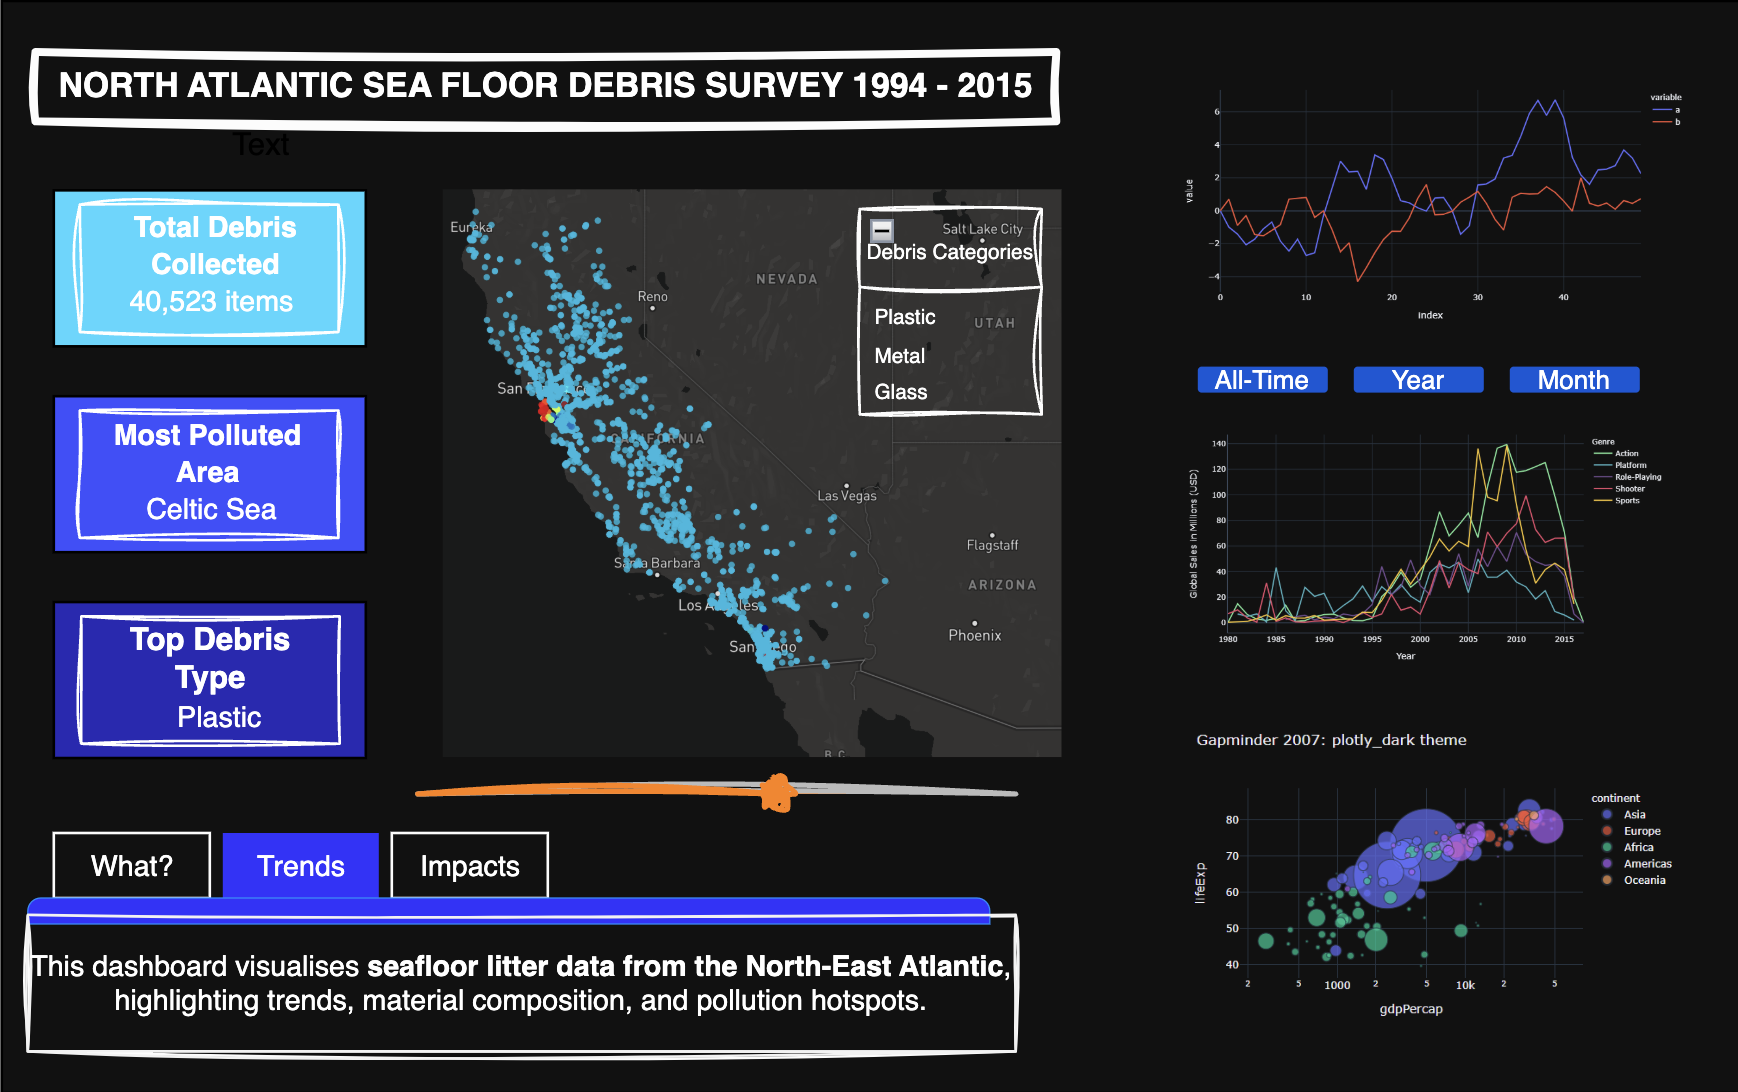

Layout of this report page (visuals, bound fields, positions):
{"tool":"tableau","page":{"name":"Dashboard 11 (5)","canvas":[1366,768],"ordinal":0},"visuals":[{"type":"image","param":"Image/sea.001.jpeg","box":[3,7,1359,763]},{"type":"title","box":[8,8,1350,35]},{"type":"text","box":[1186,8,139,106]},{"type":"text","box":[812,14,140,93]},{"type":"text","box":[999,15,140,93]},{"type":"text","box":[586,25,160,30]},{"type":"text","box":[56,42,448,64]},{"type":"image","param":"Image/Cefas-logo.png","box":[576,55,167,66]},{"type":"text","box":[813,56,140,96]},{"type":"text","box":[1183,56,140,96]},{"type":"text","box":[999,57,140,96]},{"type":"text","box":[536,151,403,34]},{"type":"worksheet","title":"map","mark":"Circle","rows":["Latitude"],"cols":["Longitude"],"box":[1057,157,257,212]},{"type":"text","box":[45,166,325,330]},{"type":"text","box":[47,167,205,14]},{"type":"worksheet","title":"over time","mark":"Automatic","rows":["Calculation_221802339387650054","area"],"cols":["totallitter"],"box":[417,183,577,283]},{"type":"legend","title":"map","param":"[federated.0x7v7631474lda1brsxy51rn3jwb].[none:area:nk]","box":[1057,379,251,114]},{"type":"text","box":[418,507,403,32]},{"type":"worksheet","title":"total_trend","mark":"Automatic","rows":["totallitter"],"cols":["date"],"box":[982,509,339,216]},{"type":"text","box":[56,510,223,224]},{"type":"worksheet","title":"animation","mark":"Circle","cols":["year"],"box":[350,533,458,179]},{"type":"legend","title":"animation","param":"[federated.1l6h4ct0hsccwt187fy690mj9vl9].[:Measure Names]","box":[819,546,157,155]},{"type":"currpage","title":"animation","box":[376,711,490,19]}]}

Visuals, with their boxes on the page's 1366x768 design canvas (x1, y1, x2, y2). These are canvas units, not pixel positions in the 1738x1092 screenshot, which may show the page scaled, cropped or inside an application window:
image: select_region(3, 7, 1362, 770)
title: select_region(8, 8, 1358, 43)
text: select_region(1186, 8, 1325, 114)
text: select_region(812, 14, 952, 107)
text: select_region(999, 15, 1139, 108)
text: select_region(586, 25, 746, 55)
text: select_region(56, 42, 504, 106)
image: select_region(576, 55, 743, 121)
text: select_region(813, 56, 953, 152)
text: select_region(1183, 56, 1323, 152)
text: select_region(999, 57, 1139, 153)
text: select_region(536, 151, 939, 185)
"map" worksheet (Circle marks): select_region(1057, 157, 1314, 369)
text: select_region(45, 166, 370, 496)
text: select_region(47, 167, 252, 181)
"over time" worksheet: select_region(417, 183, 994, 466)
"map" legend: select_region(1057, 379, 1308, 493)
text: select_region(418, 507, 821, 539)
"total_trend" worksheet: select_region(982, 509, 1321, 725)
text: select_region(56, 510, 279, 734)
"animation" worksheet (Circle marks): select_region(350, 533, 808, 712)
"animation" legend: select_region(819, 546, 976, 701)
"animation" currpage: select_region(376, 711, 866, 730)
